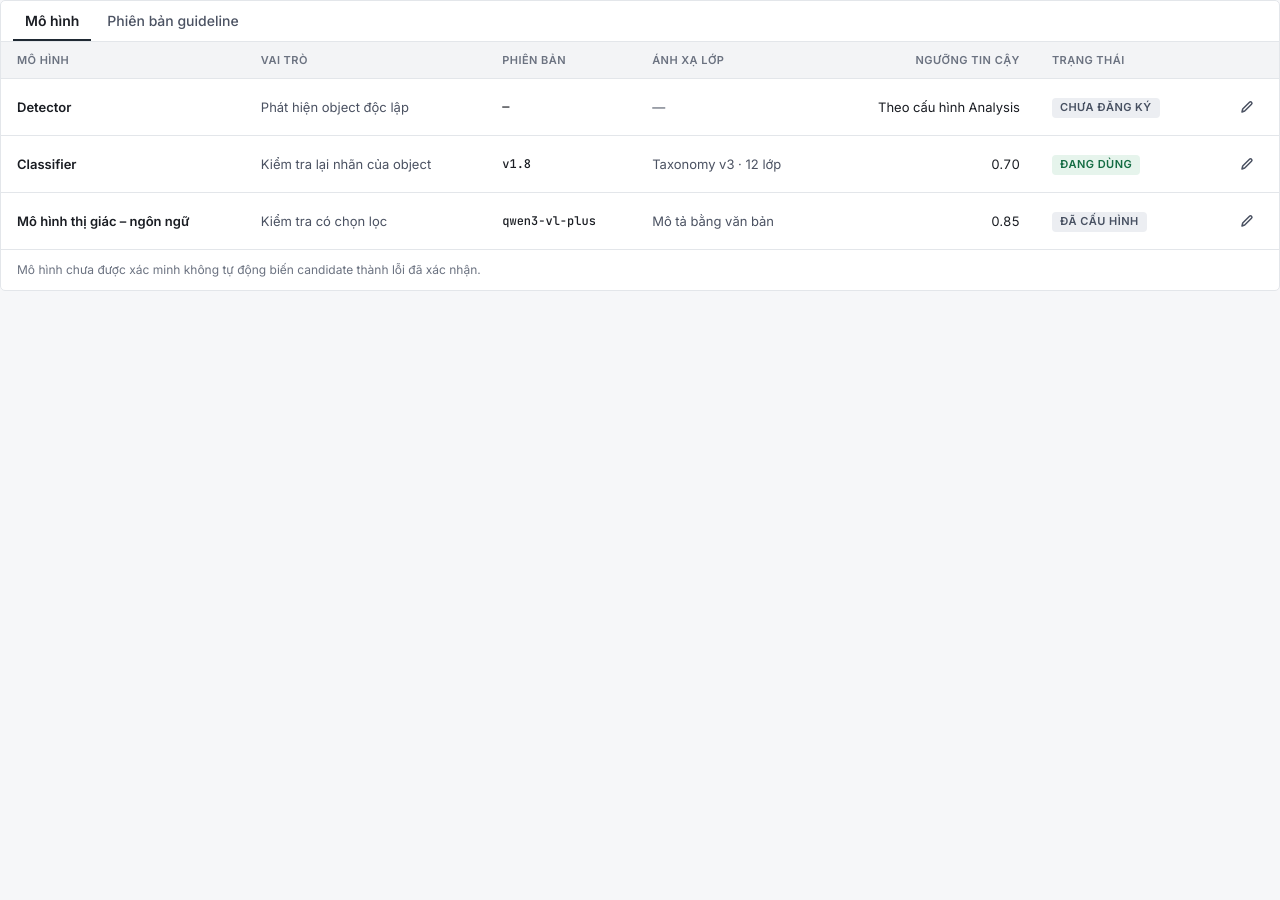
Test: VLM settings › selects Gemini on the gateway and updates the saved model row
The width and height of the screenshot is (1280, 900).
Expected: the text "qwen3-vl-plus" is shown, [486,192,636,249]
Click the button named "Chỉnh mô hình" in the row of "Mô hình thị giác – ngôn ngữ".
click(1247, 221)  # box [1231,205,1263,237]
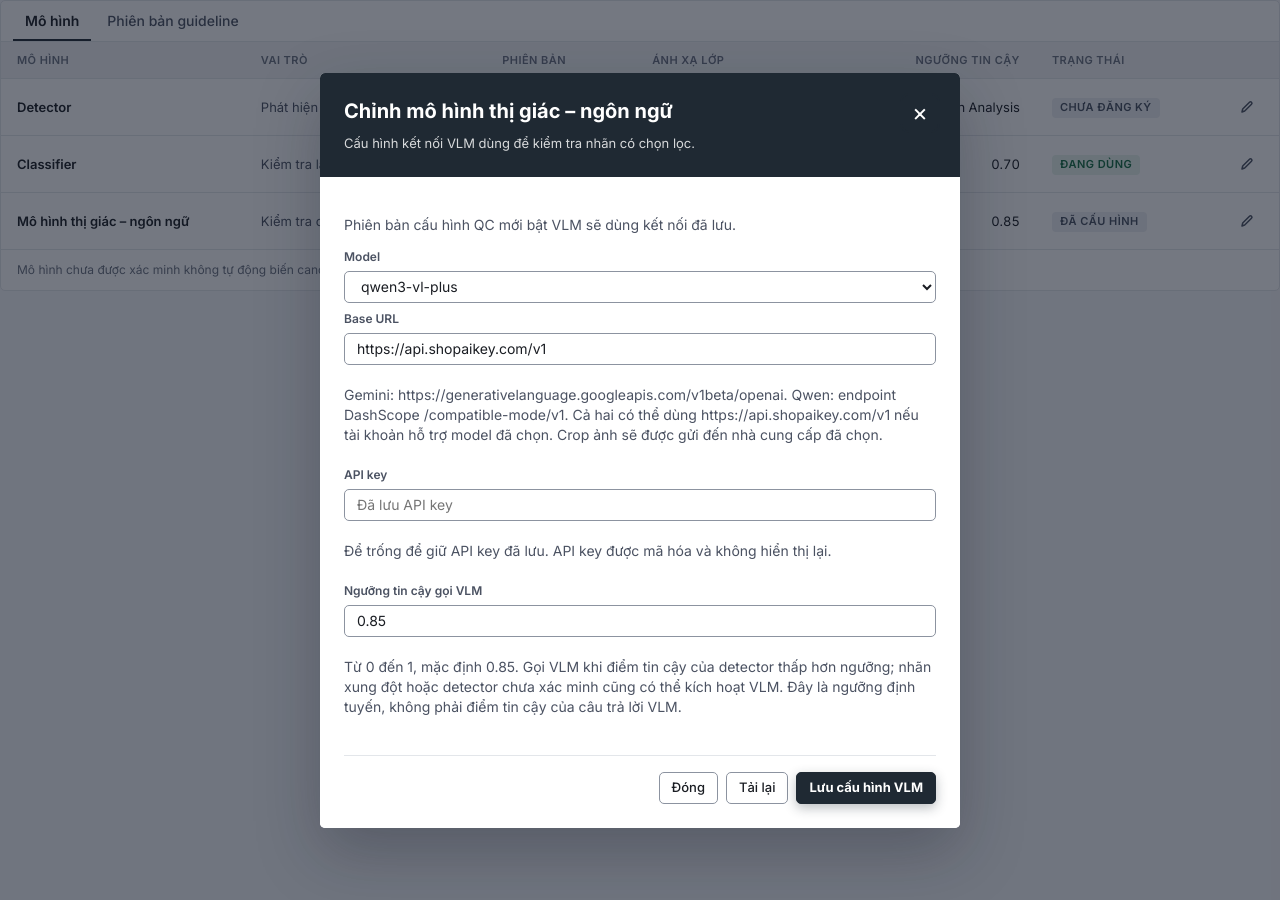
Select "gemini-3.8-flash" in the dropdown labelled "Model" at (640, 286), box [344,270,936,302]
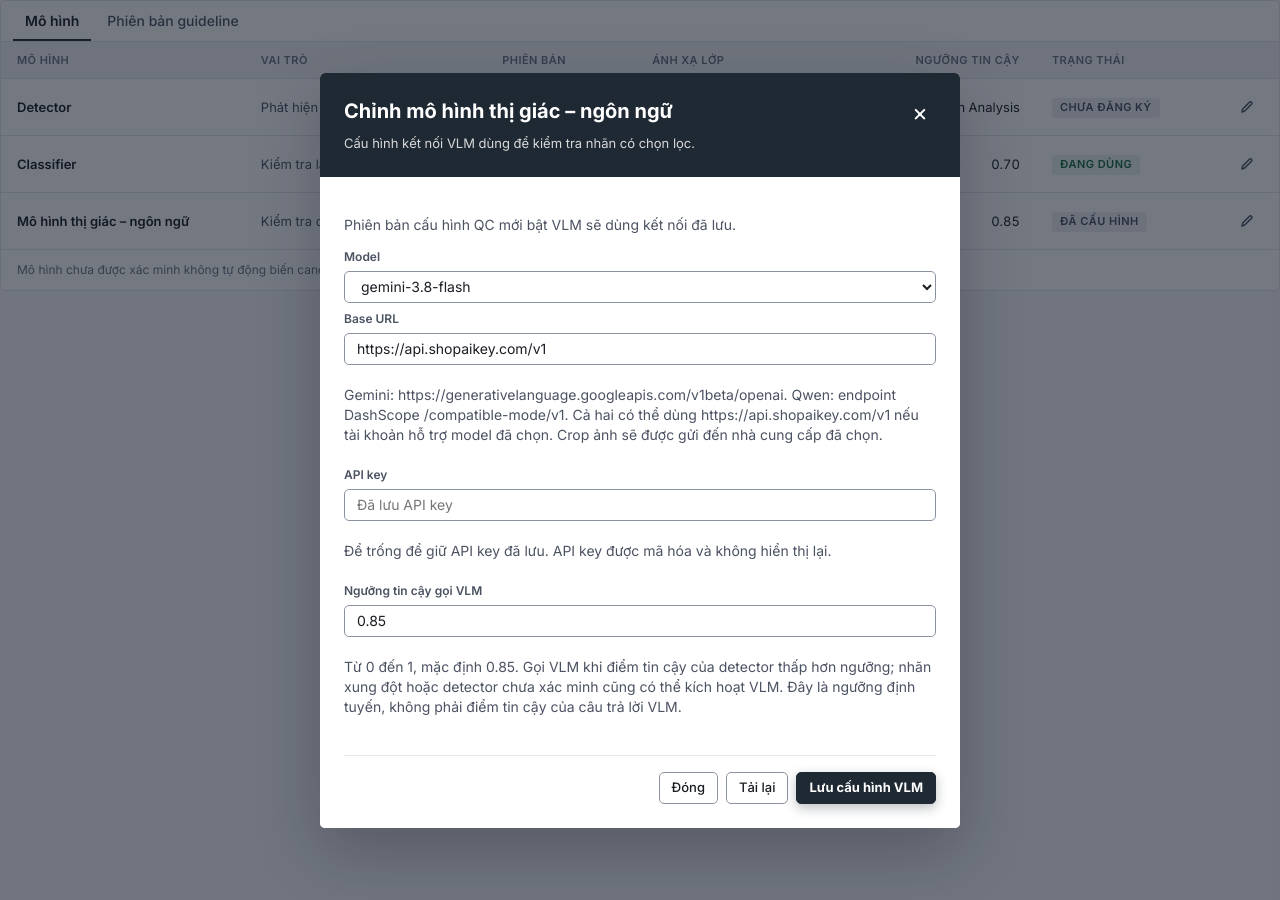
Click the button "Lưu cấu hình VLM".
click(866, 788)  # box [796,772,936,804]
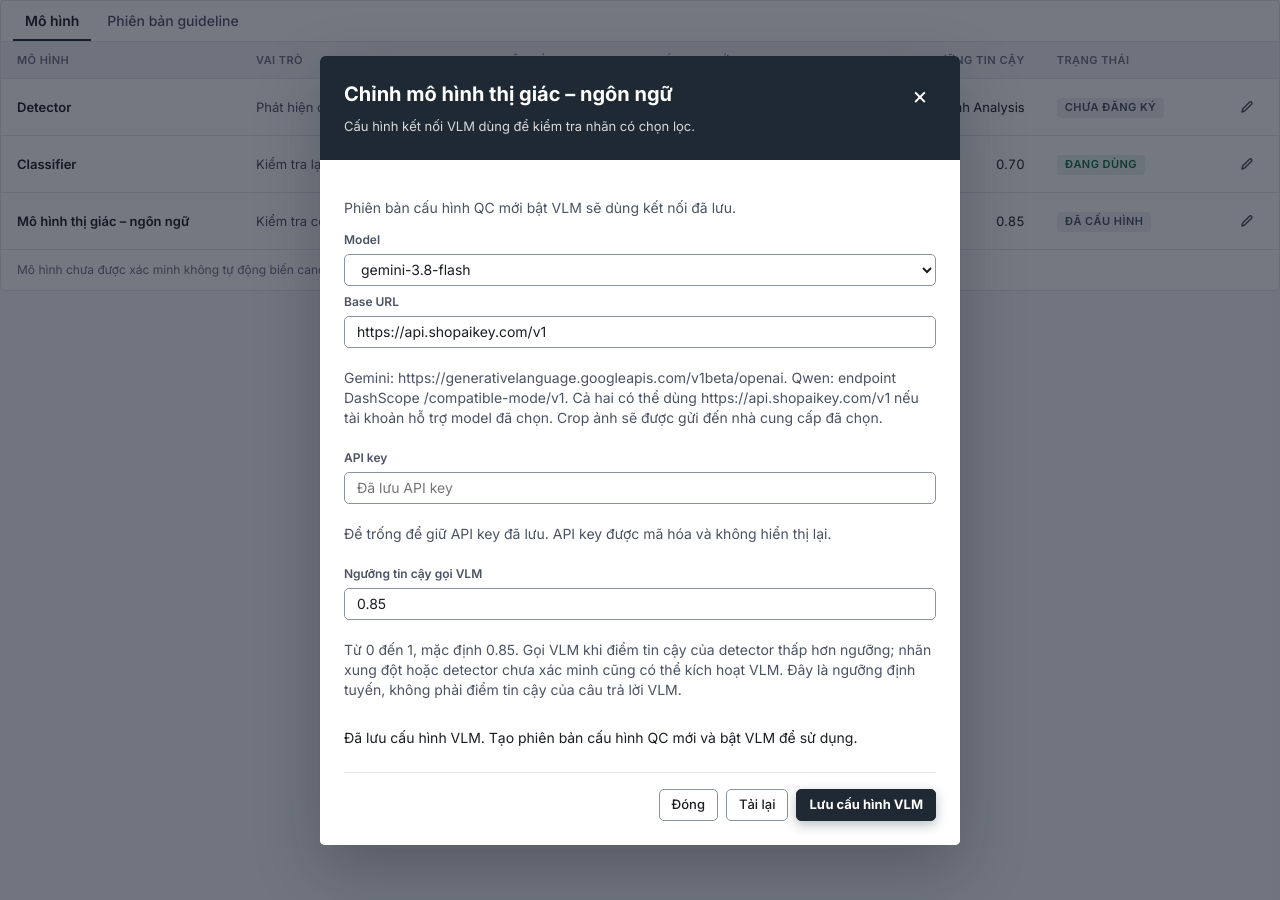
Result: the text "gemini-3.8-flash" is shown at [477,192,649,249]
